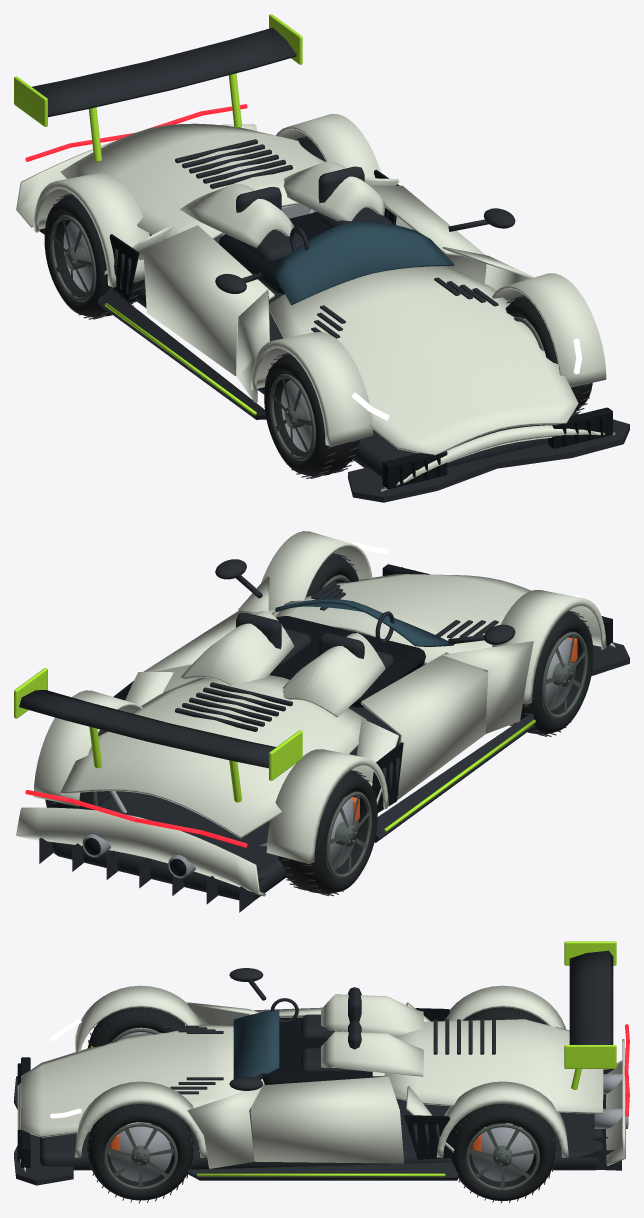
The model's file is concept-helix.glb.
The picture shows the model from 3 angles, top to bottom: view 1: azimuth 30°, elevation 25°; view 2: azimuth 150°, elevation 25°; view 3: azimuth 270°, elevation 25°; orthographic projection. The views are drawn at different scales.
Parts seen in each view (by area): view 1: Hood, RearDeckEngineCover, SculptedWheelArchL, DoorL, SculptedWheelArchR, Wing, WindscreenGlass, FrontSplitter, WheelFrontL_Tire, WheelRearL_Tire, RollFairingL, DoorR (+22 smaller); view 2: RearDeckEngineCover, Hood, SculptedWheelArchL, DoorL, SculptedWheelArchR, BumperRear, CarbonMonocoqueUndertray, Wing, SidePanelL, RollFairingL, WheelRearL_Tire, RollFairingR (+25 smaller); view 3: Hood, RearDeckEngineCover, DoorR, SculptedWheelArchR, CarbonMonocoqueUndertray, SculptedWheelArchL, WheelFrontR_Tire, WheelRearR_Tire, Wing, SidePanelR, SideSkirtR, RollFairingR (+25 smaller).
Boxes of the visible parts, box(x1,y1,x2,y2) form: Hood: box(269, 266, 578, 454); RearDeckEngineCover: box(60, 123, 324, 240); SculptedWheelArchL: box(33, 172, 373, 446); DoorL: box(143, 225, 274, 375); SculptedWheelArchR: box(276, 114, 606, 387); Wing: box(32, 27, 296, 117); WindscreenGlass: box(275, 221, 454, 305); FrontSplitter: box(348, 419, 629, 502); WheelFrontL_Tire: box(264, 354, 359, 476); WheelRearL_Tire: box(44, 195, 144, 317); RollFairingL: box(179, 183, 294, 247); DoorR: box(369, 185, 486, 283); RearDeckEngineCover: box(60, 675, 366, 838); Hood: box(275, 574, 531, 664); SculptedWheelArchL: box(266, 590, 606, 863); DoorL: box(360, 652, 487, 800); SculptedWheelArchR: box(33, 531, 372, 806); BumperRear: box(16, 807, 265, 896); CarbonMonocoqueUndertray: box(52, 630, 485, 900); Wing: box(19, 690, 275, 768); SidePanelL: box(356, 641, 533, 805); RollFairingL: box(282, 633, 385, 717); WheelRearL_Tire: box(278, 771, 377, 894); RollFairingR: box(179, 610, 294, 685); Hood: box(21, 1024, 264, 1137); RearDeckEngineCover: box(384, 1019, 603, 1113); DoorR: box(250, 1076, 403, 1163); SculptedWheelArchR: box(74, 1081, 568, 1157); CarbonMonocoqueUndertray: box(40, 1076, 603, 1170); SculptedWheelArchL: box(74, 985, 566, 1052); WheelFrontR_Tire: box(87, 1104, 194, 1200); WheelRearR_Tire: box(450, 1104, 556, 1200); Wing: box(569, 950, 613, 1044); SidePanelR: box(187, 1085, 454, 1168); SideSkirtR: box(187, 1162, 458, 1180); RollFairingR: box(321, 1031, 423, 1076).
Bounding box in the file's own units: 2.05 × 1.26 × 4.49.
